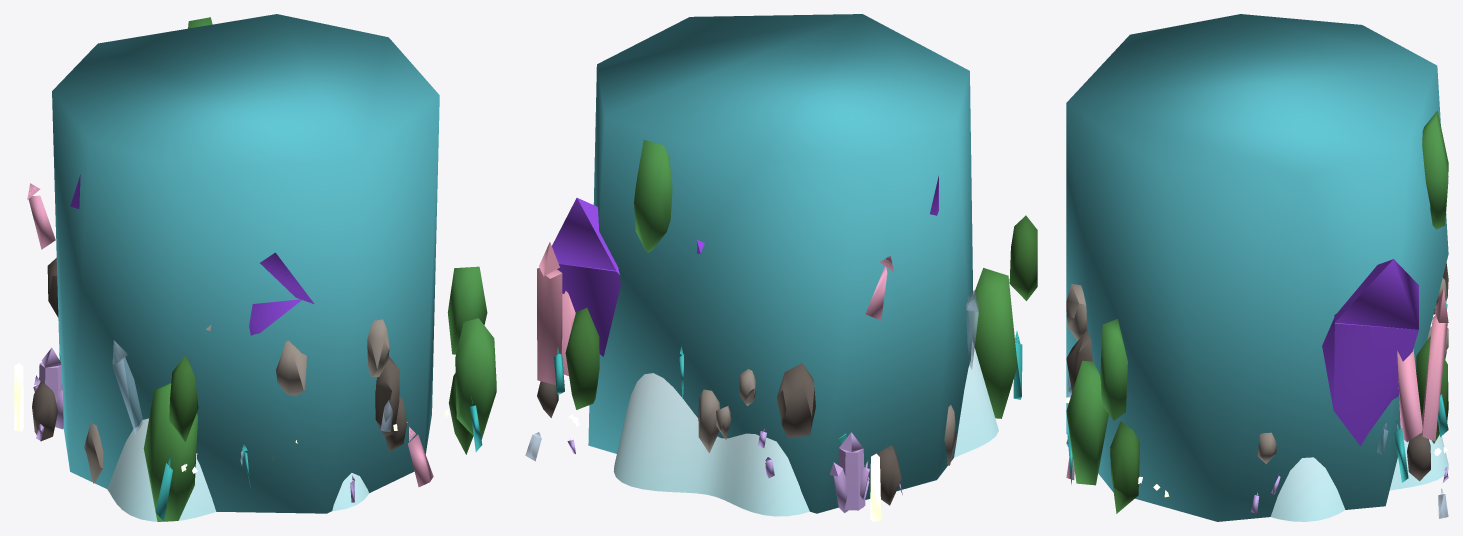
Rendered from ile-cristal-v4-leger.glb.
3 views of the same model, side by side, from view 1: azimuth 30°, elevation 25°; view 2: azimuth 150°, elevation 25°; view 3: azimuth 270°, elevation 25° (orthographic).
Visible parts, largest first — view 1: cristal_decor, cristal_terrain, cristal_coeurs; view 2: cristal_decor, cristal_terrain, cristal_coeurs; view 3: cristal_decor, cristal_terrain.
Part boxes in pixels (box(x1,y1,x2,y2)): cristal_decor: box(27, 14, 496, 521); cristal_terrain: box(107, 418, 368, 521); cristal_coeurs: box(14, 363, 448, 473); cristal_decor: box(525, 14, 1037, 513); cristal_terrain: box(613, 341, 998, 516); cristal_coeurs: box(569, 413, 881, 521); cristal_decor: box(1066, 14, 1448, 521); cristal_terrain: box(1066, 434, 1448, 521).
Size of the model in its own units: 2 by 2 by 2.
